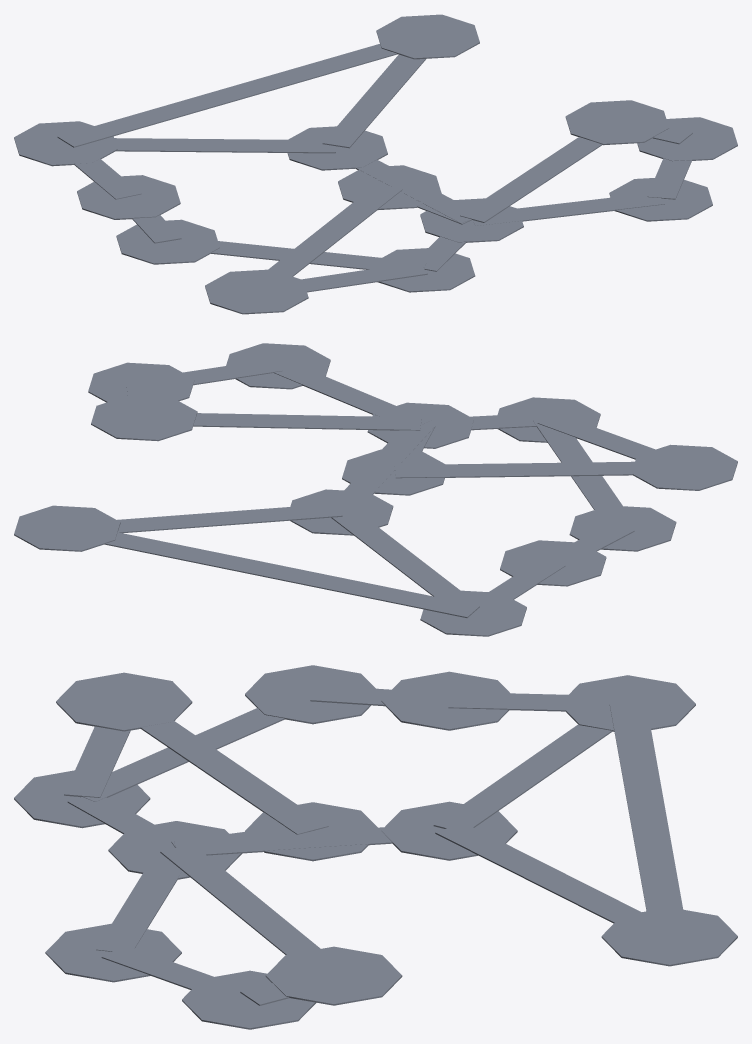
The model's file is navigation.glb.
3 renders of one model, top to bottom at view 1: azimuth 30°, elevation 25°; view 2: azimuth 150°, elevation 25°; view 3: azimuth 270°, elevation 25°, orthographic. The views are drawn at different scales.
Visible parts, largest first — view 1: navigation:surface:0; view 2: navigation:surface:0; view 3: navigation:surface:0.
Part boxes in pixels (left/top/right/bottom): navigation:surface:0: left=14, top=14, right=737, bottom=314; navigation:surface:0: left=14, top=343, right=737, bottom=636; navigation:surface:0: left=14, top=665, right=737, bottom=1029.
Size of the model in its own units: 82 by 1.01 by 69.
